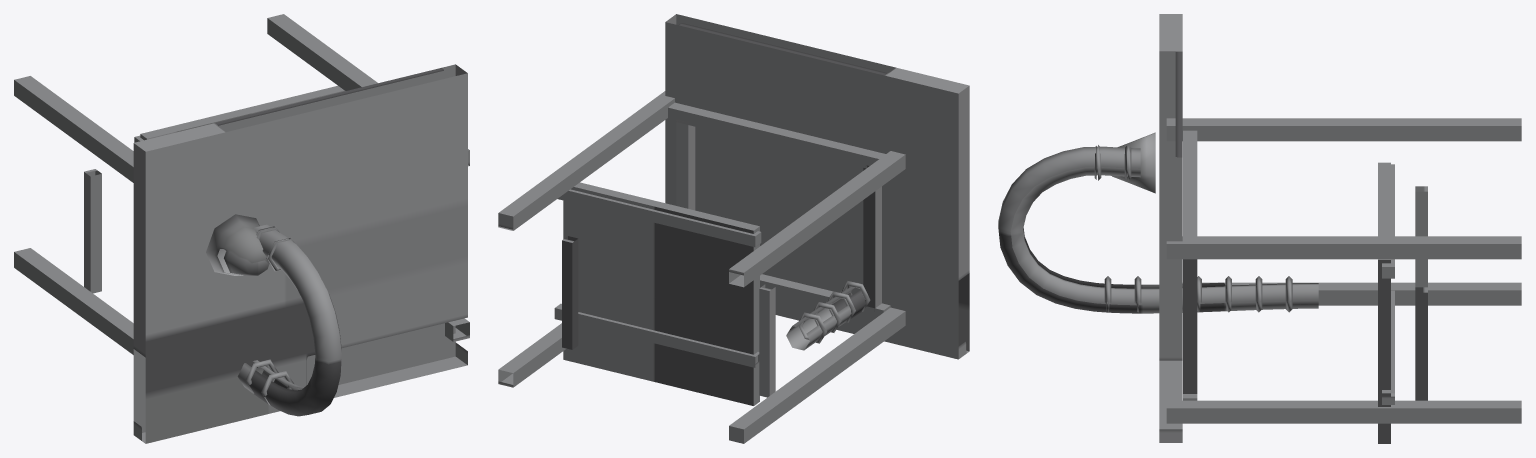
3 renders of one model, left to right at view 1: azimuth 30°, elevation 25°; view 2: azimuth 150°, elevation 25°; view 3: azimuth 270°, elevation 25°, orthographic. The views are drawn at different scales.
Bounding box in the file's own units: 1.09 × 0.917 × 1.56.
